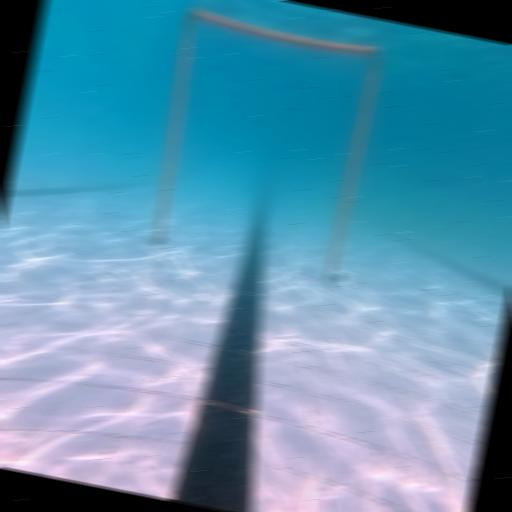gate: (140, 6, 390, 282)
